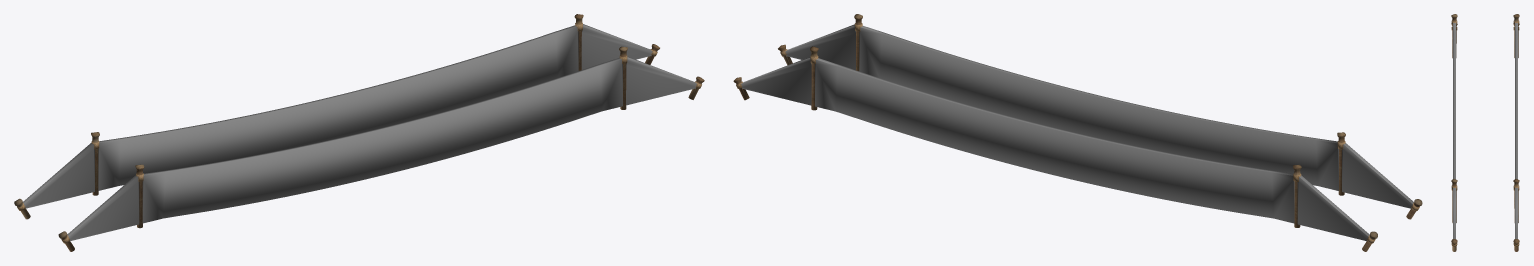
File: ropepart_colmesh.obj
The picture shows the model from 3 angles, left to right: view 1: azimuth 30°, elevation 25°; view 2: azimuth 150°, elevation 25°; view 3: azimuth 270°, elevation 25°; orthographic projection. The views are drawn at different scales.
Parts seen in each view (by area): view 1: Default; view 2: Default; view 3: Default.
Part boxes in pixels (x1,y1,x2,y2): Default: (14,14,704,251); Default: (733,14,1422,251); Default: (1451,14,1519,251).
Bounding box in the file's own units: 16.76 × 1.73 × 2.2.
Materials: 2 (1 with a texture image).
